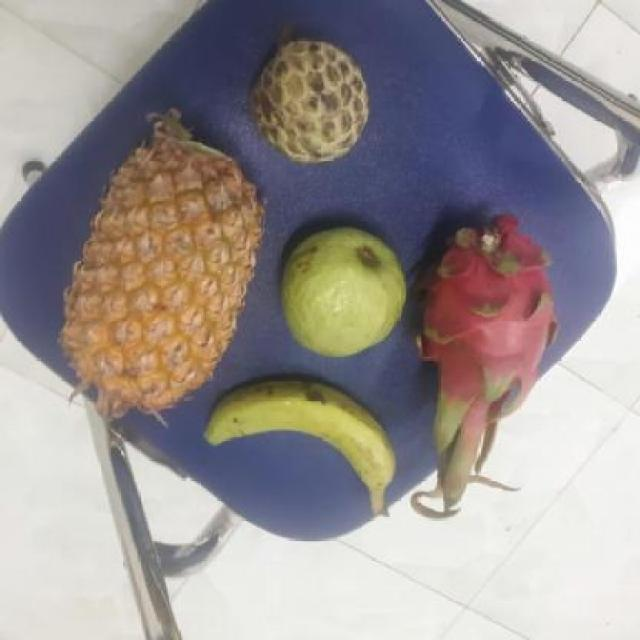banana: (198, 378, 391, 500)
dragon fruit: (407, 227, 555, 445)
guava: (274, 227, 408, 356)
pineapple: (53, 118, 262, 412)
sugar apple: (238, 33, 369, 165)
